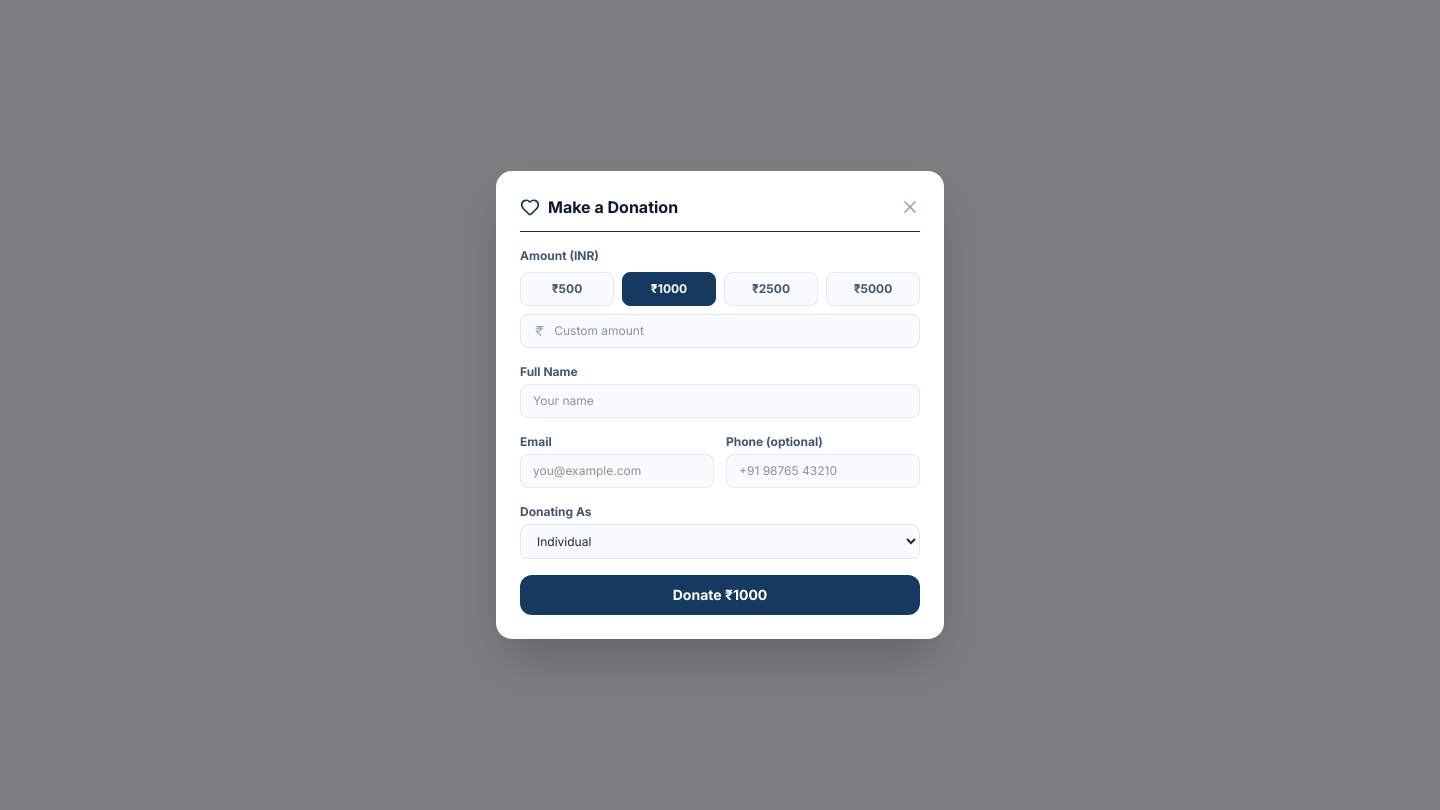
it: DonateModal checkout flow › tells the donor to contact the org directly when online donations are not yet configured
The image size is (1440, 810).
In the field with placeholder "Your name": (720, 401) [520,384,920,418], type "Ananya Mehta"
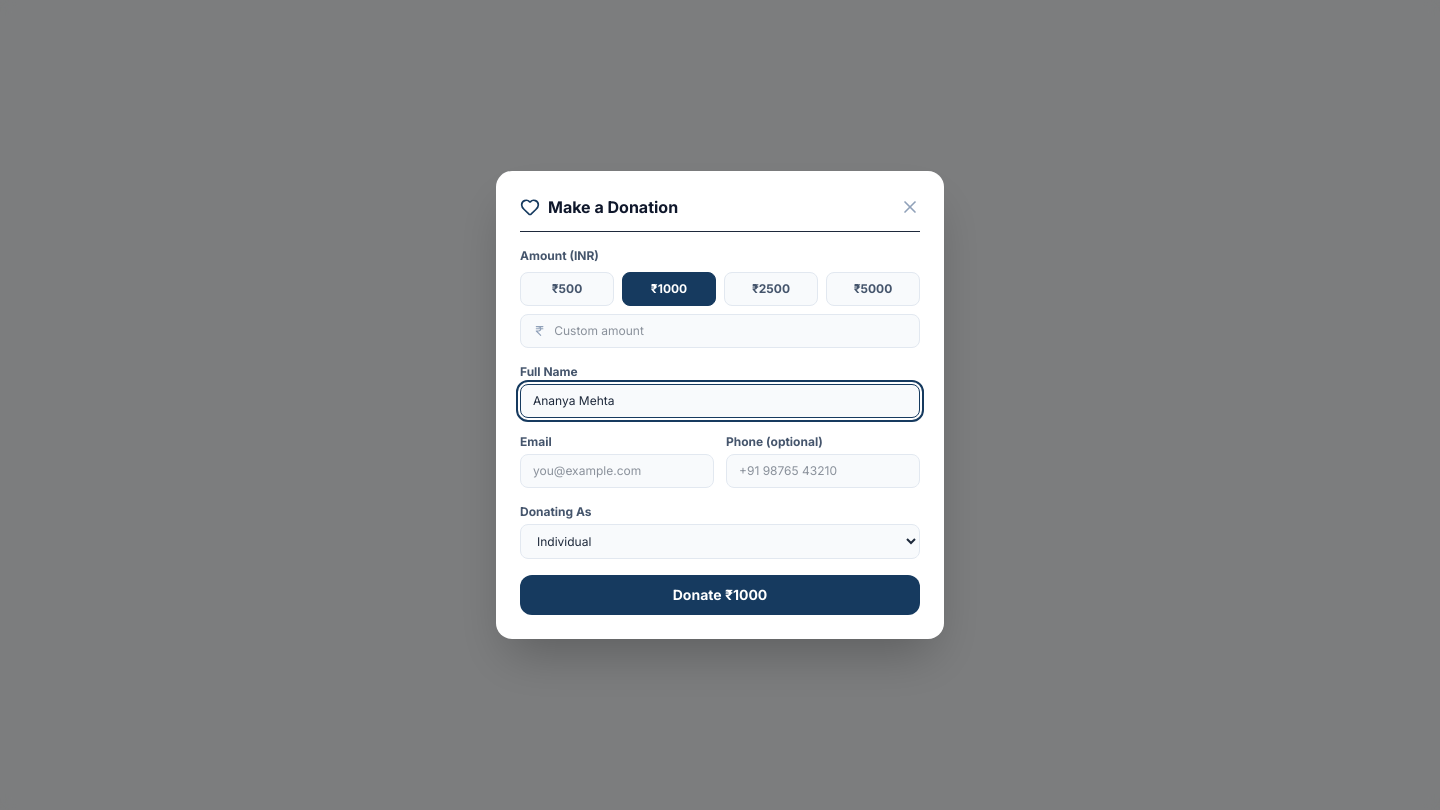
In the field with placeholder "you@example.com": (617, 471) [520,454,714,488], type "ananya@example.com"
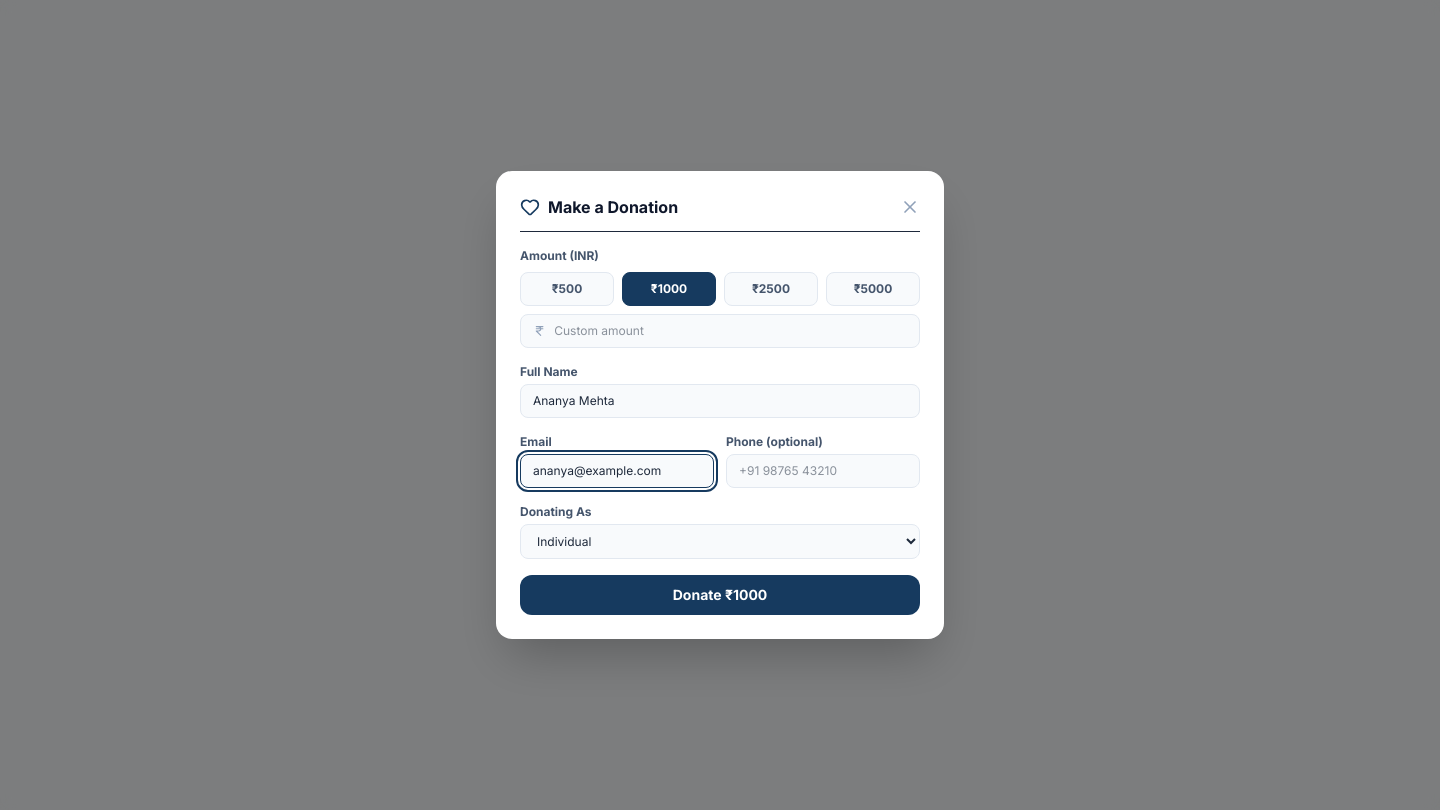
Click the button "Donate ₹1000": (720, 595) [520,575,920,615]
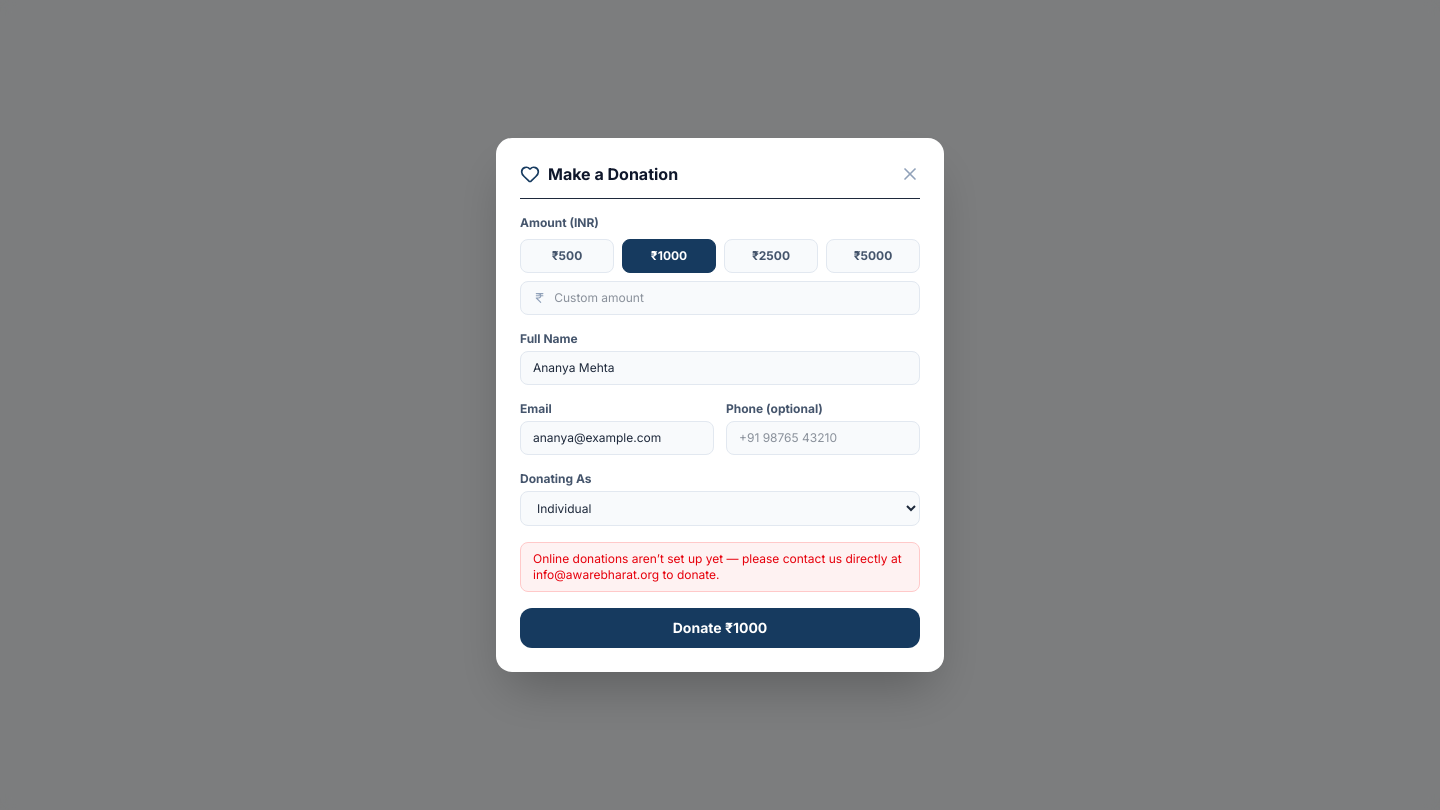
Now the text "aren.t set up yet" is shown, box [533,551,902,582]
